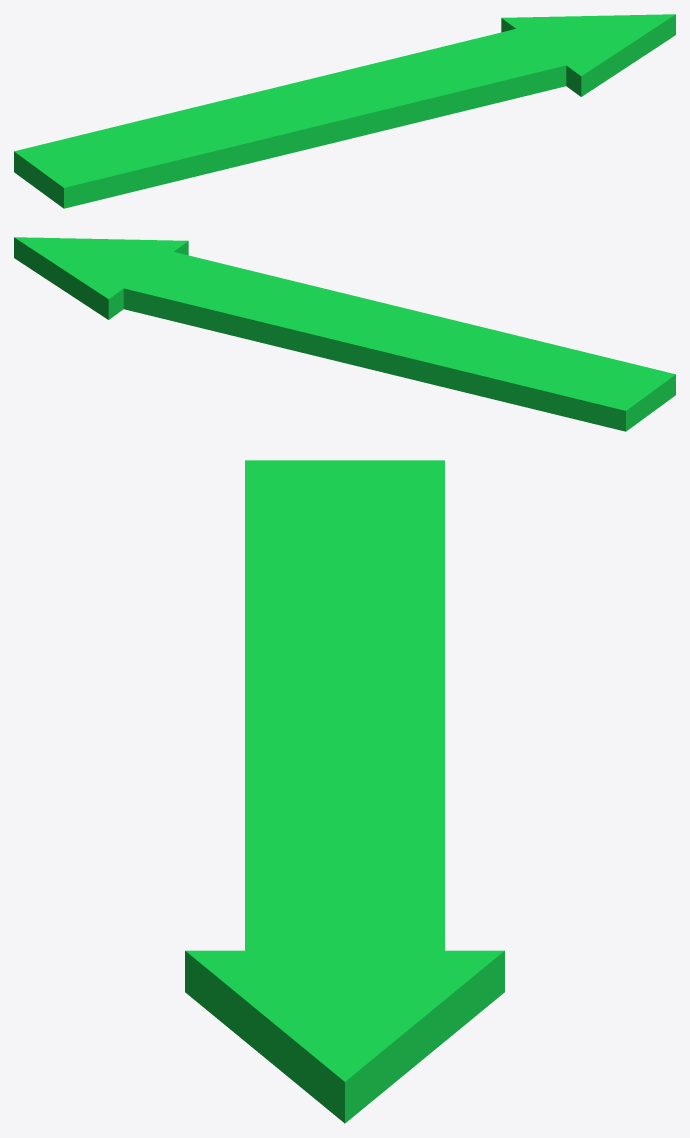
The model's file is Arrow.fbx.
The picture shows the model from 3 angles, top to bottom: view 1: azimuth 30°, elevation 25°; view 2: azimuth 150°, elevation 25°; view 3: azimuth 270°, elevation 25°; orthographic projection. The views are drawn at different scales.
Parts seen in each view (by area): view 1: Plane; view 2: Plane; view 3: Plane.
Boxes of the visible parts, <box> form: Plane: <box>14,14,675,208</box>; Plane: <box>14,237,675,431</box>; Plane: <box>185,460,504,1123</box>.
Size of the model in its own units: 1472 by 46 by 320.
